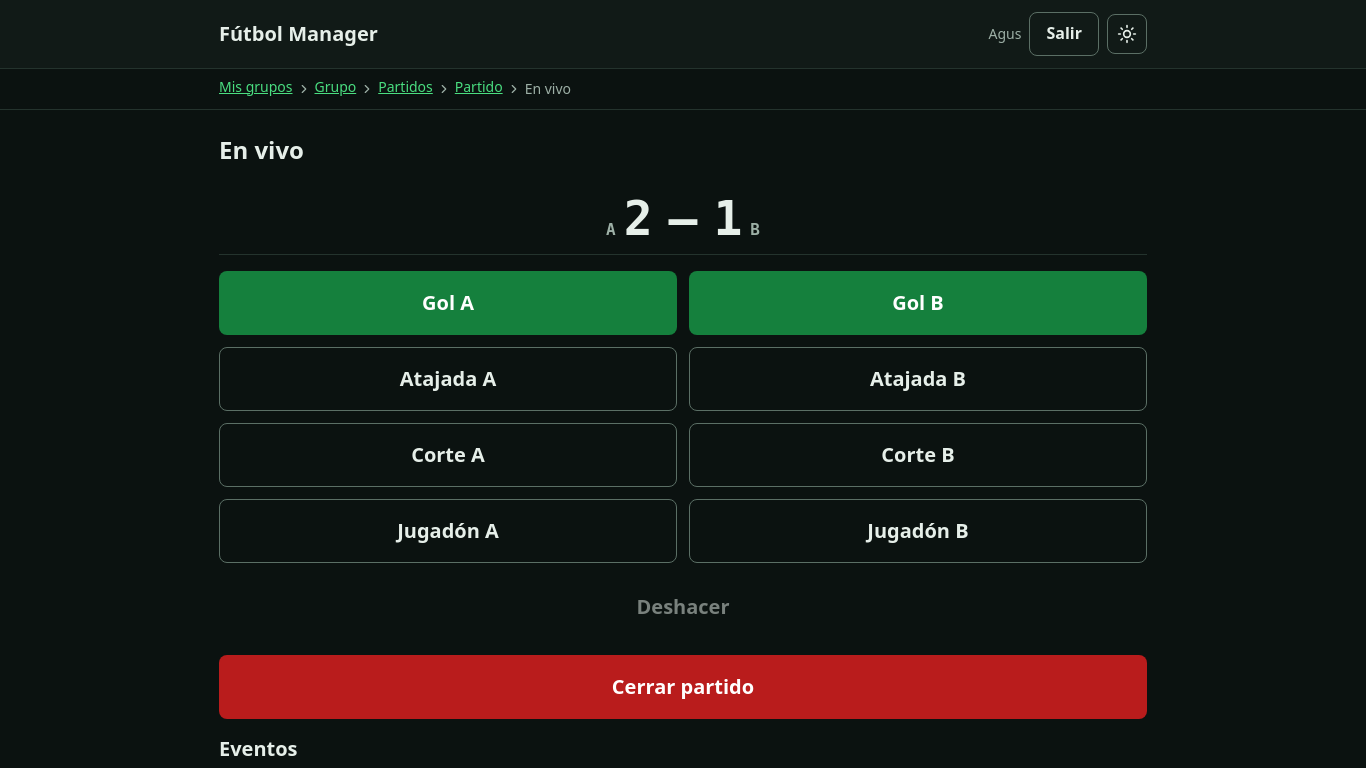
CloseControls › muestra el error de la API si no se puede cerrar
Click the button "Cerrar partido" at coordinates (683, 687), box [219,655,1147,719]
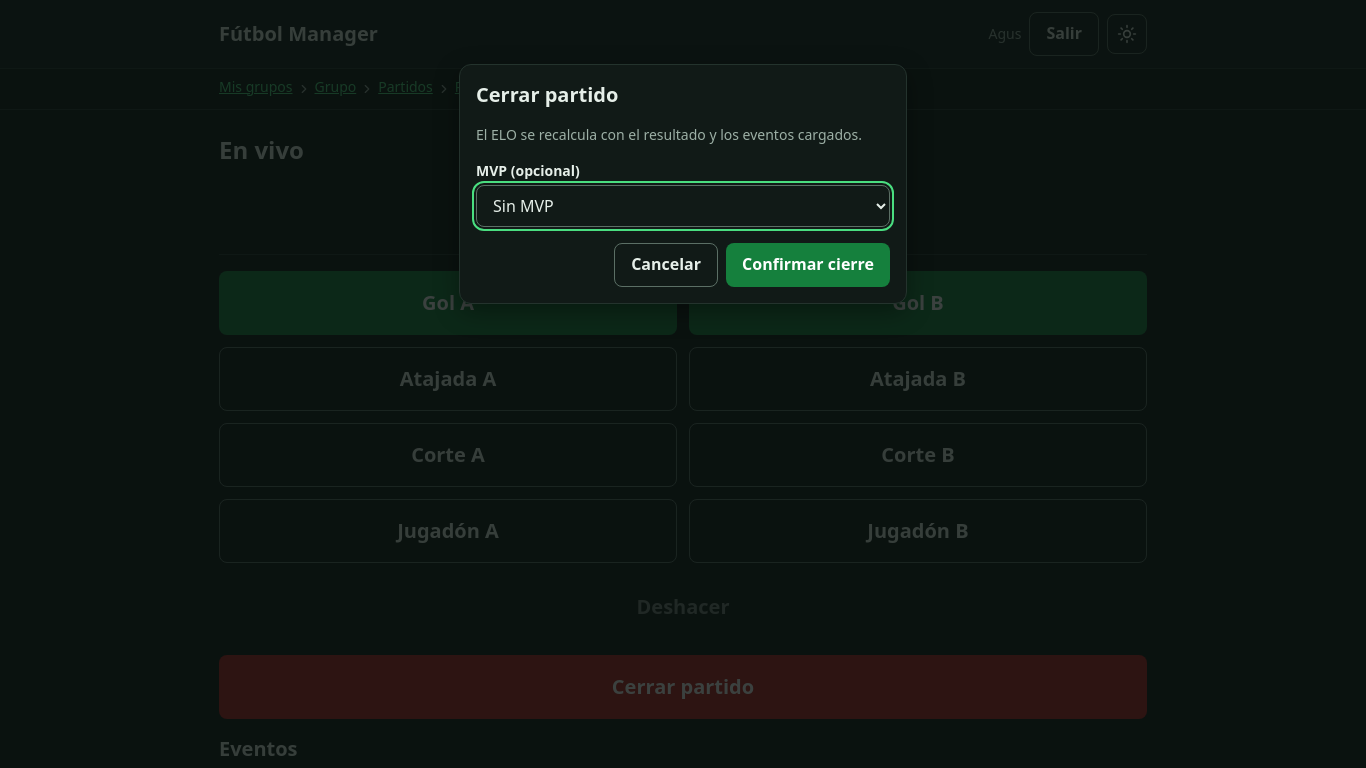
Click the button "Confirmar cierre" at coordinates (808, 265), box [726,243,890,287]
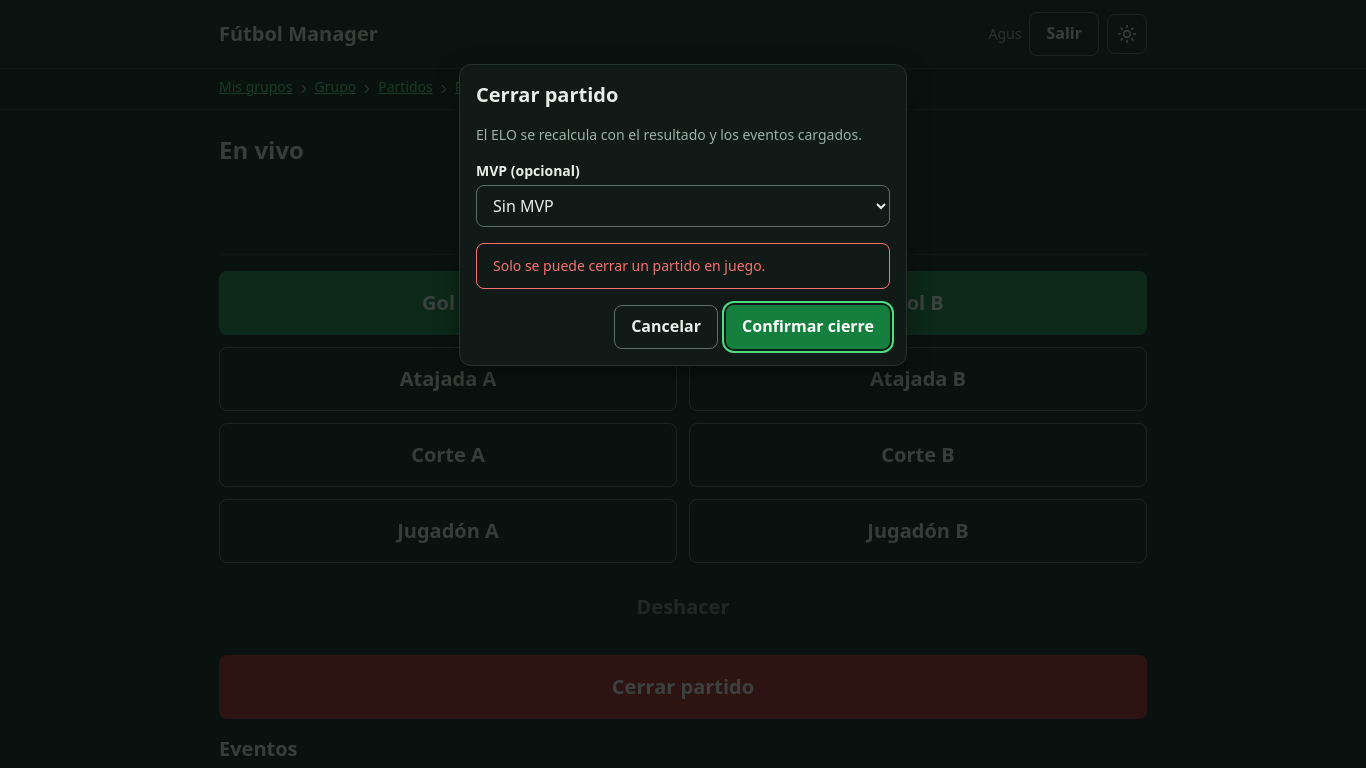
Result: the message reads "Solo se puede cerrar un partido en juego." at [493,256,765,275]
